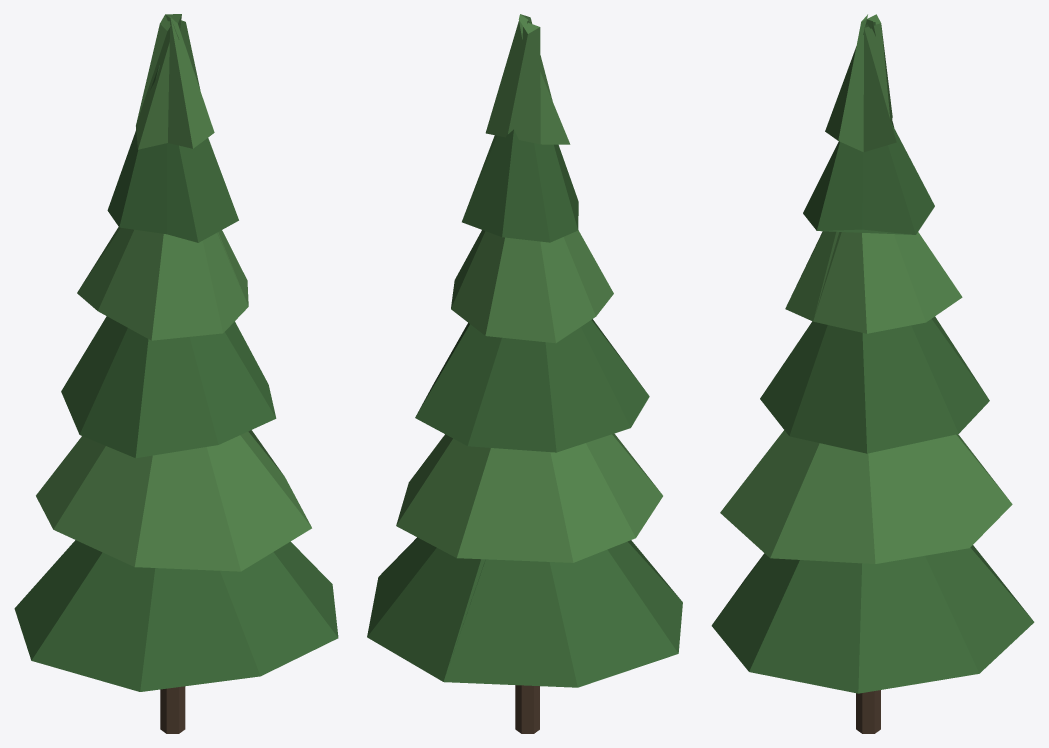
File: pine_tree.glb
3 renders of one model, left to right at view 1: azimuth 30°, elevation 25°; view 2: azimuth 150°, elevation 25°; view 3: azimuth 270°, elevation 25°, orthographic.
Parts seen in each view (by area): view 1: pine_tree; view 2: pine_tree; view 3: pine_tree.
Boxes of the visible parts, x1=… form: pine_tree: x1=14, y1=14, x2=338, y2=733; pine_tree: x1=367, y1=14, x2=682, y2=733; pine_tree: x1=711, y1=14, x2=1034, y2=733.
Size of the model in its own units: 5.6 by 12.7 by 5.21.
